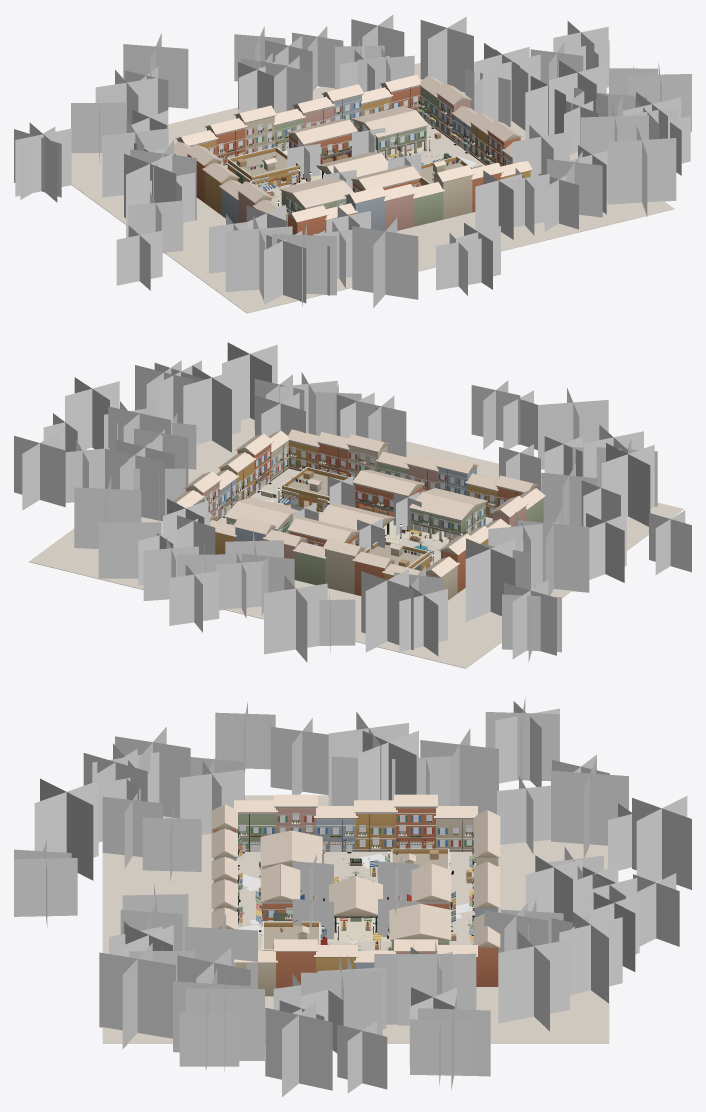
Rendered from tarsa.glb.
3 renders of one model, top to bottom at view 1: azimuth 30°, elevation 25°; view 2: azimuth 150°, elevation 25°; view 3: azimuth 270°, elevation 25°, orthographic. The views are drawn at different scales.
Visible parts, largest first — view 1: card:tree, v_rooftile:roof tiles, v_cobble:street, v_stucco:terra stucco, v_stucco:cream stucco, plaster:white trim, v_stucco:ochre stucco, v_stucco:sage stucco, atlas:facade, v_stucco:rose stucco, v_stucco:sky stucco, v_paving:roof terrace (+1 smaller); view 2: card:tree, v_rooftile:roof tiles, v_cobble:street, v_stucco:cream stucco, v_stucco:terra stucco, plaster:white trim, v_stucco:ochre stucco, atlas:facade, v_stucco:sage stucco, v_stucco:rose stucco, v_stucco:sky stucco, v_paving:roof terrace (+1 smaller); view 3: card:tree, v_rooftile:roof tiles, v_cobble:street, v_stucco:terra stucco, v_stucco:cream stucco, plaster:white trim, atlas:facade, v_stucco:ochre stucco, v_paving:roof terrace, v_stucco:sky stucco, v_paving:square, cloth:cream awning (+4 smaller).
Part boxes in pixels (<box>): card:tree: <box>14,15,691,307</box>; v_rooftile:roof tiles: <box>174,74,532,222</box>; v_cobble:street: <box>71,62,674,313</box>; v_stucco:terra stucco: <box>187,86,520,235</box>; v_stucco:cream stucco: <box>174,83,520,221</box>; plaster:white trim: <box>190,85,512,216</box>; v_stucco:ochre stucco: <box>177,98,530,218</box>; v_stucco:sage stucco: <box>255,86,443,226</box>; atlas:facade: <box>209,95,508,213</box>; v_stucco:rose stucco: <box>238,94,470,230</box>; v_stucco:sky stucco: <box>221,95,470,230</box>; v_paving:roof terrace: <box>233,151,463,183</box>; card:tree: <box>14,342,691,662</box>; v_rooftile:roof tiles: <box>166,429,545,577</box>; v_cobble:street: <box>29,417,683,668</box>; v_stucco:cream stucco: <box>176,441,537,600</box>; v_stucco:terra stucco: <box>213,443,536,595</box>; plaster:white trim: <box>194,440,523,568</box>; v_stucco:ochre stucco: <box>215,441,497,579</box>; atlas:facade: <box>204,446,504,545</box>; v_stucco:sage stucco: <box>195,463,543,585</box>; v_stucco:rose stucco: <box>186,465,526,579</box>; v_stucco:sky stucco: <box>219,467,476,541</box>; v_paving:roof terrace: <box>288,473,424,565</box>; card:tree: <box>14,698,691,1096</box>; v_rooftile:roof tiles: <box>211,794,500,962</box>; v_cobble:street: <box>102,795,609,1043</box>; v_stucco:terra stucco: <box>213,808,498,988</box>; v_stucco:cream stucco: <box>213,819,498,996</box>; plaster:white trim: <box>236,807,475,950</box>; atlas:facade: <box>239,813,472,920</box>; v_stucco:ochre stucco: <box>263,814,447,972</box>; v_paving:roof terrace: <box>264,853,447,949</box>; v_stucco:sky stucco: <box>213,819,498,968</box>; v_paving:square: <box>320,917,390,941</box>; cloth:cream awning: <box>238,839,475,940</box>.
Bounding box in the file's own units: 182 × 18.99 × 153.
46 materials, 8 textured.
